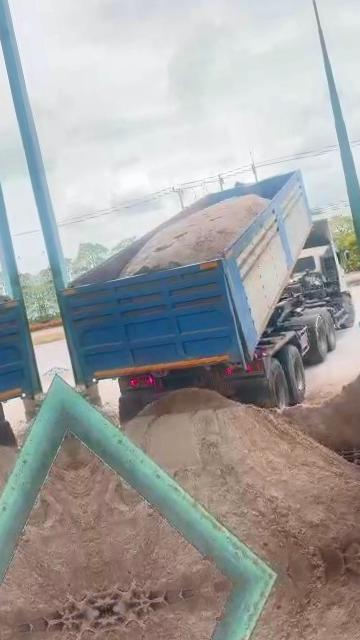sand: (126, 389, 360, 574), (76, 457, 228, 591), (120, 195, 268, 277), (281, 362, 360, 451), (68, 432, 90, 470), (95, 406, 118, 425)
